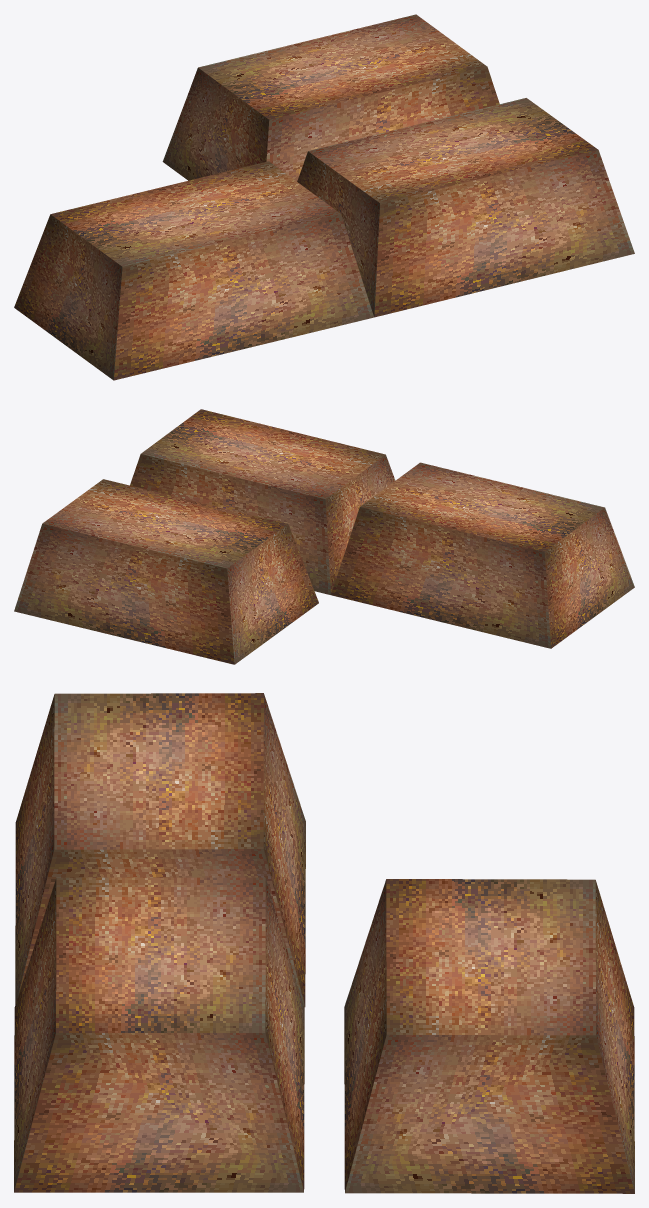
File: iron_3.glb
3 renders of one model, top to bottom at view 1: azimuth 30°, elevation 25°; view 2: azimuth 150°, elevation 25°; view 3: azimuth 270°, elevation 25°, orthographic. The views are drawn at different scales.
Parts seen in each view (by area): view 1: iron01.001; view 2: iron01.001; view 3: iron01.001.
Part boxes in pixels (bbox=[...]): iron01.001: bbox=[14, 14, 634, 380]; iron01.001: bbox=[14, 409, 634, 664]; iron01.001: bbox=[14, 693, 634, 1193].
Size of the model in its own units: 126 by 22.94 by 89.15.
Materials: 1 (1 with a texture image).
